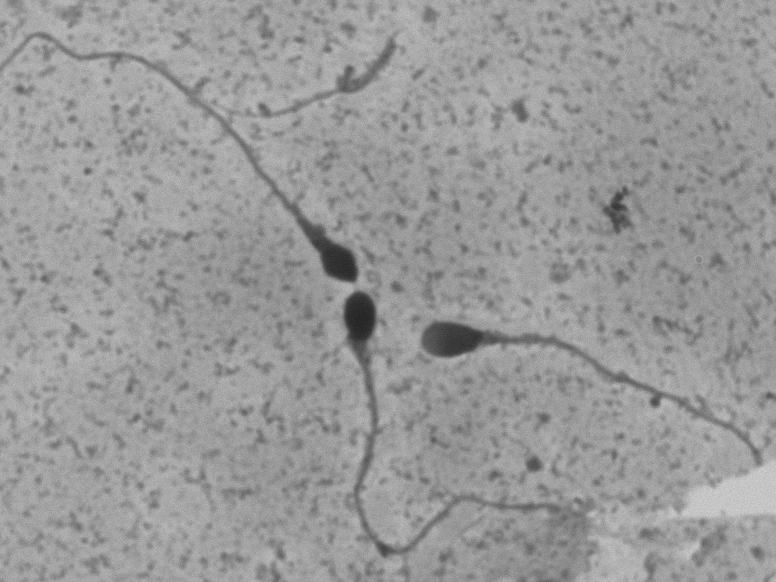Abnormal: (13, 23, 375, 293), (316, 285, 557, 566), (406, 306, 767, 441)
